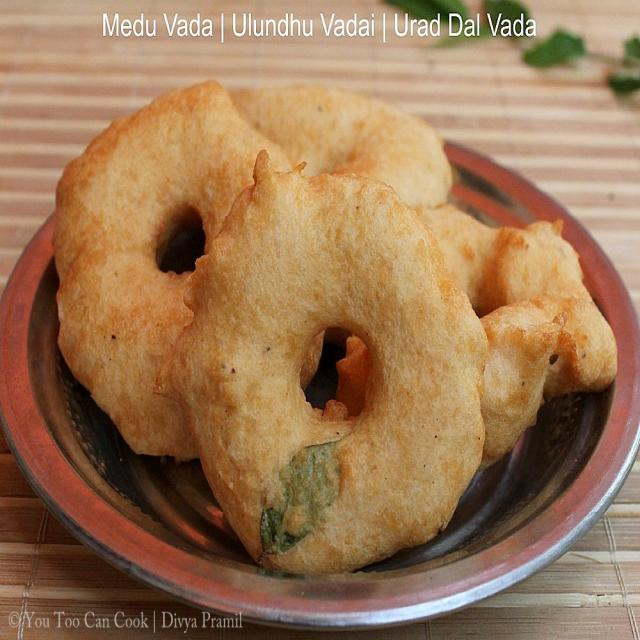MEDU VADA: (53, 80, 621, 573)
